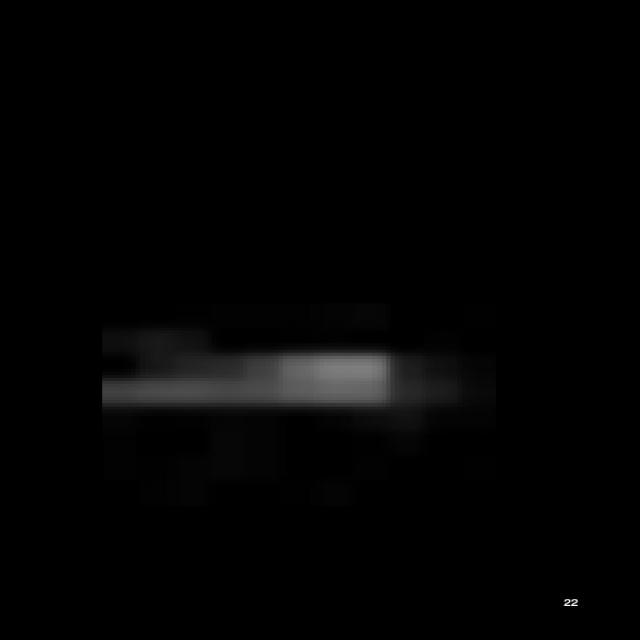1 -one-: (92, 348, 404, 417)
